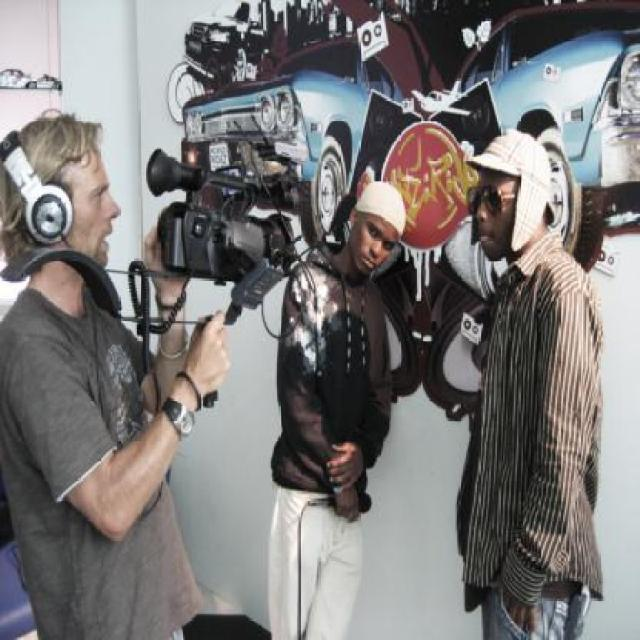earphone: (0, 121, 81, 258)
watch: (144, 385, 208, 452)
